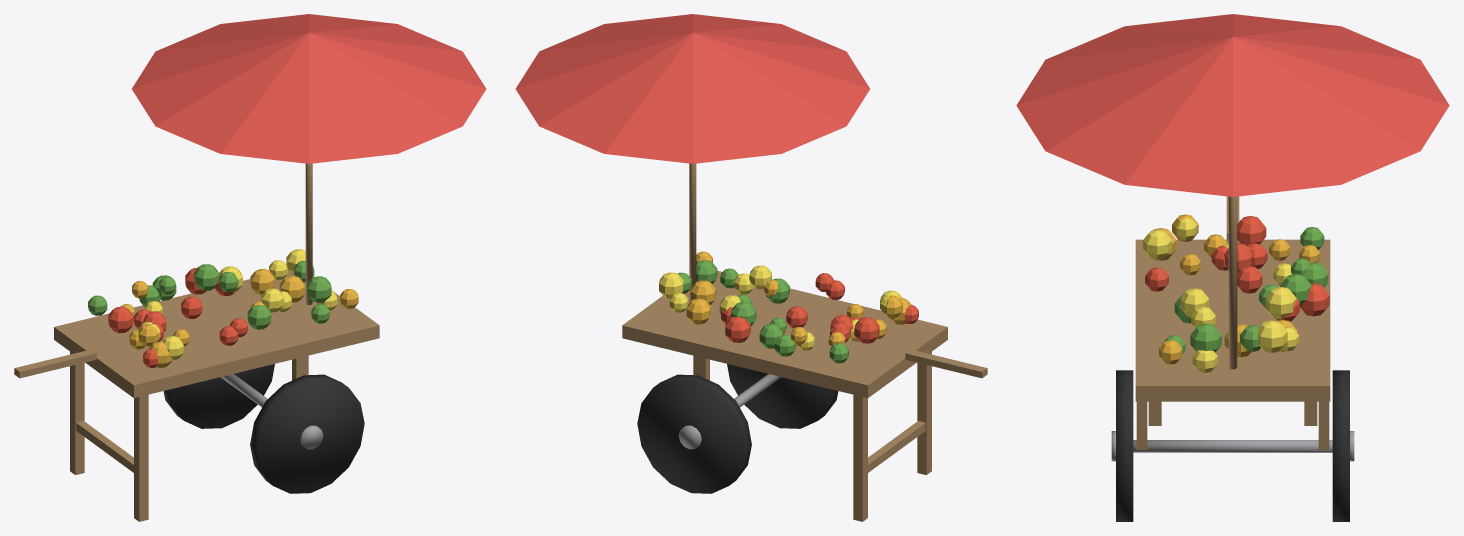
Rendered from life_cart.glb.
3 views of the same model, side by side, from view 1: azimuth 30°, elevation 25°; view 2: azimuth 150°, elevation 25°; view 3: azimuth 270°, elevation 25° (orthographic). The views are drawn at different scales.
Visible parts, largest first — view 1: Bed; view 2: Bed; view 3: Bed.
Part boxes in pixels (bbox=[...]): Bed: bbox=[14, 14, 486, 521]; Bed: bbox=[515, 14, 987, 521]; Bed: bbox=[1016, 14, 1449, 521].
Bounding box in the file's own units: 2.9 × 2.58 × 2.
